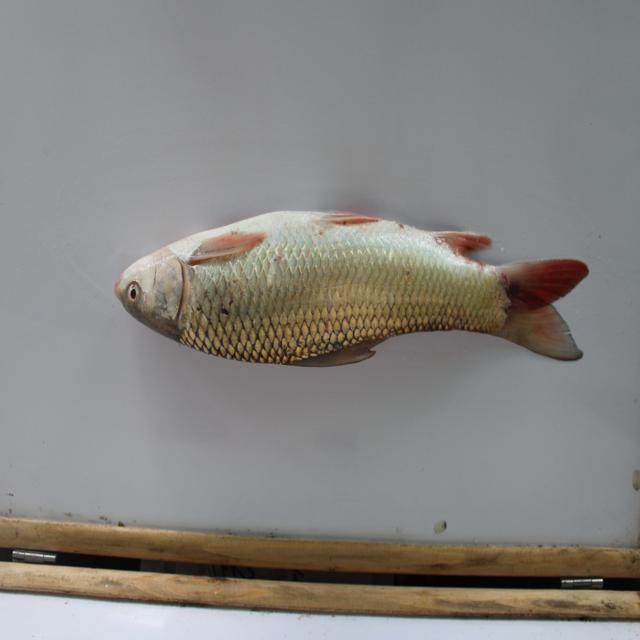Mori: (105, 170, 592, 389)
